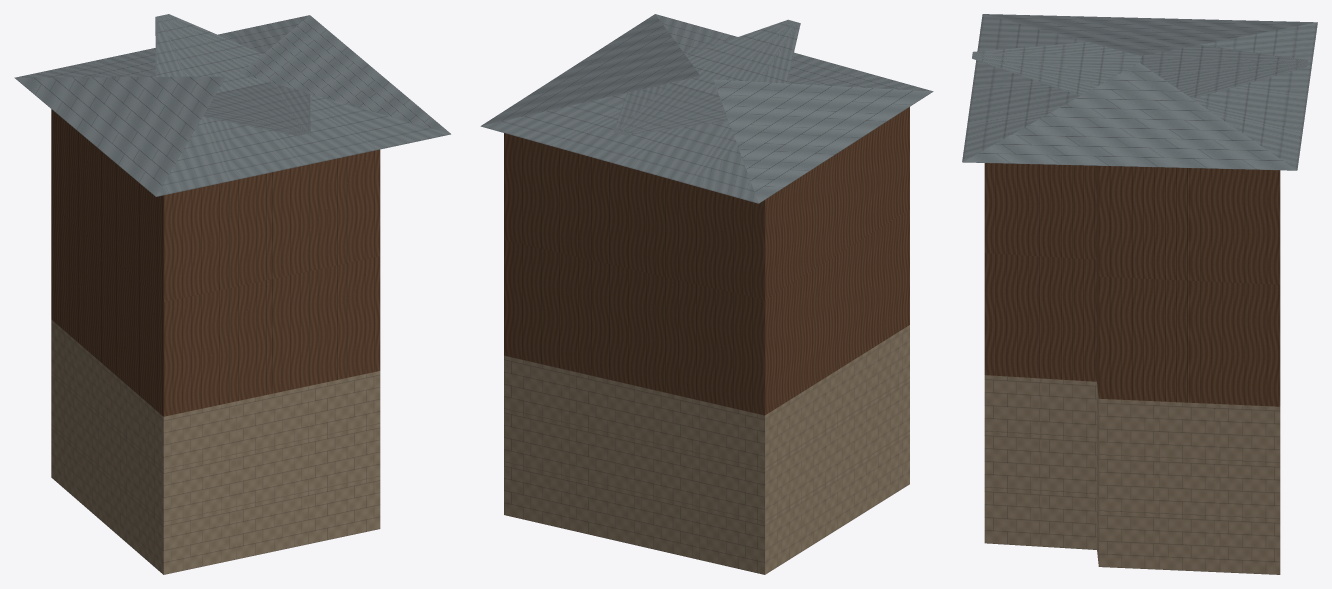
File: bld_c29_-43_417.gltf
3 views of the same model, side by side, from view 1: azimuth 30°, elevation 25°; view 2: azimuth 150°, elevation 25°; view 3: azimuth 270°, elevation 25° (orthographic). The views are drawn at different scales.
Parts seen in each view (by area): view 1: bld_c29_-43_417; view 2: bld_c29_-43_417; view 3: bld_c29_-43_417.
Part boxes in pixels (bbox=[...]): bld_c29_-43_417: bbox=[14, 14, 450, 574]; bld_c29_-43_417: bbox=[480, 14, 933, 574]; bld_c29_-43_417: bbox=[962, 14, 1317, 574].
Bounding box in the file's own units: 10.19 × 13.5 × 9.78.
3 materials, 3 textured.
